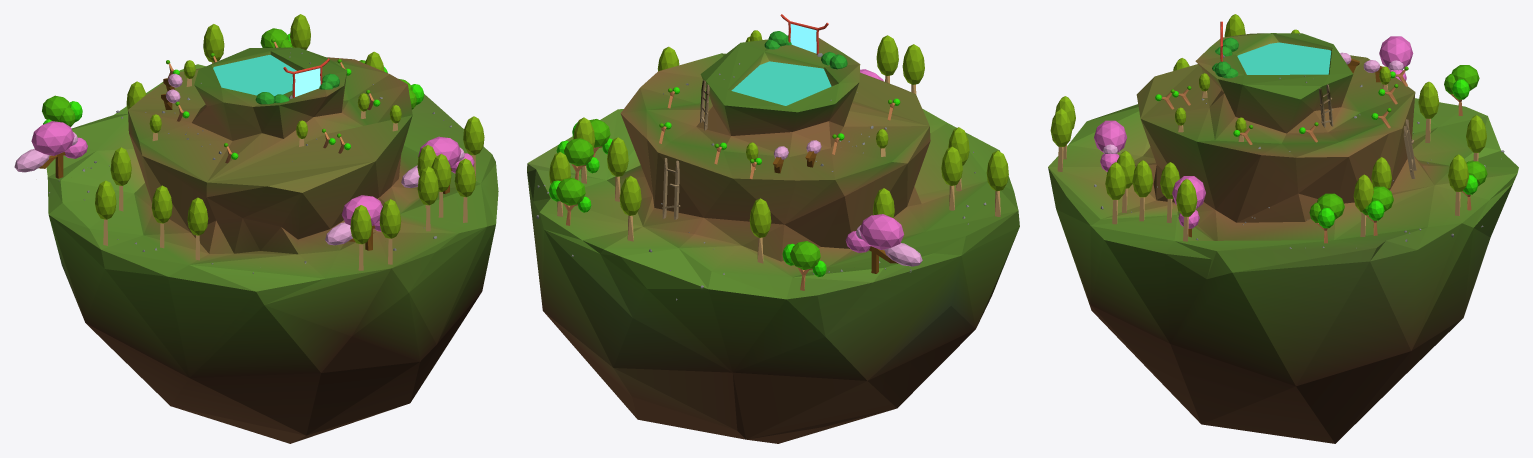
3 views of the same model, side by side, from view 1: azimuth 30°, elevation 25°; view 2: azimuth 150°, elevation 25°; view 3: azimuth 270°, elevation 25° (orthographic). The views are drawn at different scales.
Parts seen in each view (by area): view 1: Island.014, Water.014, Tree3 - 2.052, Tree3 - 2.050, Tree3 - 2.051, Tree1 - 2.068, Tree2 - 2.123, Tree2 - 2.129, Tree2 - 2.126, Tree2 - 2.128, Tree2 - 2.121, Tree2 - 2.116 (+8 smaller); view 2: Island.014, Water.014, Tree3 - 2.052, Tree1 - 2.068, Tree1 - 2.067, Tree1 - 2.066, Tree2 - 2.126, Tree2 - 2.119, Tree2 - 2.127, Tree2 - 2.120, Tree2 - 2.118, Tree2 - 2.129 (+8 smaller); view 3: Island.014, Water.014, Tree3 - 2.050, Tree3 - 2.052, Tree1 - 2.068, Tree1 - 2.065, Tree2 - 2.123, Tree2 - 2.124, Tree2 - 2.121, Tree1 - 2.066, Tree2 - 2.117, Tree2 - 2.127 (+8 smaller).
Boxes of the visible parts, x1=… form: Island.014: x1=46, y1=47, x2=498, y2=443; Water.014: x1=213, y1=55, x2=296, y2=96; Tree3 - 2.052: x1=14, y1=121, x2=87, y2=178; Tree3 - 2.050: x1=325, y1=195, x2=382, y2=250; Tree3 - 2.051: x1=401, y1=136, x2=474, y2=193; Tree1 - 2.068: x1=42, y1=95, x2=82, y2=126; Tree2 - 2.123: x1=379, y1=199, x2=401, y2=264; Tree2 - 2.129: x1=350, y1=205, x2=371, y2=270; Tree2 - 2.126: x1=95, y1=180, x2=116, y2=245; Tree2 - 2.128: x1=417, y1=166, x2=438, y2=231; Tree2 - 2.121: x1=454, y1=158, x2=475, y2=222; Tree2 - 2.116: x1=110, y1=147, x2=131, y2=211; Island.014: x1=527, y1=38, x2=1019, y2=443; Water.014: x1=731, y1=61, x2=831, y2=105; Tree3 - 2.052: x1=845, y1=214, x2=922, y2=273; Tree1 - 2.068: x1=782, y1=241, x2=826, y2=290; Tree1 - 2.067: x1=549, y1=177, x2=591, y2=225; Tree1 - 2.066: x1=556, y1=138, x2=599, y2=180; Tree2 - 2.126: x1=986, y1=150, x2=1008, y2=216; Tree2 - 2.119: x1=619, y1=175, x2=641, y2=241; Tree2 - 2.127: x1=749, y1=198, x2=771, y2=263; Tree2 - 2.120: x1=941, y1=146, x2=962, y2=210; Tree2 - 2.118: x1=607, y1=137, x2=628, y2=201; Tree2 - 2.129: x1=902, y1=44, x2=924, y2=94; Island.014: x1=1048, y1=33, x2=1518, y2=443; Water.014: x1=1237, y1=42, x2=1331, y2=74; Tree3 - 2.050: x1=1094, y1=120, x2=1127, y2=171; Tree3 - 2.052: x1=1379, y1=36, x2=1413, y2=81; Tree1 - 2.068: x1=1444, y1=65, x2=1479, y2=115; Tree1 - 2.065: x1=1309, y1=193, x2=1344, y2=243; Tree2 - 2.123: x1=1050, y1=108, x2=1072, y2=171; Tree2 - 2.124: x1=1176, y1=179, x2=1197, y2=241; Tree2 - 2.121: x1=1105, y1=162, x2=1126, y2=224; Tree1 - 2.066: x1=1362, y1=186, x2=1393, y2=235; Tree2 - 2.117: x1=1448, y1=154, x2=1468, y2=215; Tree2 - 2.127: x1=1418, y1=81, x2=1439, y2=142.
Size of the model in its own units: 41.96 by 39.87 by 43.73.
